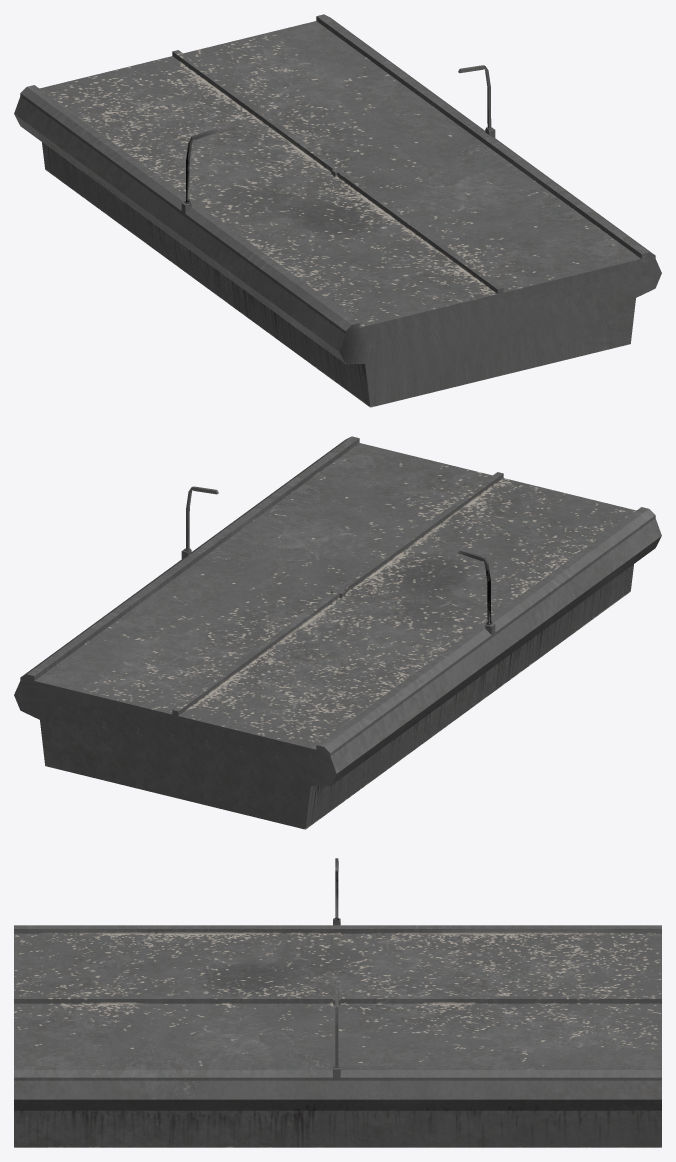
The model's file is road-tex.glb.
3 renders of one model, top to bottom at view 1: azimuth 30°, elevation 25°; view 2: azimuth 150°, elevation 25°; view 3: azimuth 270°, elevation 25°, orthographic.
Visible parts, largest first — view 1: Road_copy_Cube.006; view 2: Road_copy_Cube.006; view 3: Road_copy_Cube.006.
Boxes of the visible parts, box(x1,y1,x2,y2) form: Road_copy_Cube.006: box(14, 14, 661, 407); Road_copy_Cube.006: box(14, 436, 661, 829); Road_copy_Cube.006: box(14, 858, 661, 1147).
Size of the model in its own units: 2.29 by 1.07 by 4.
1 material, 1 textured.
